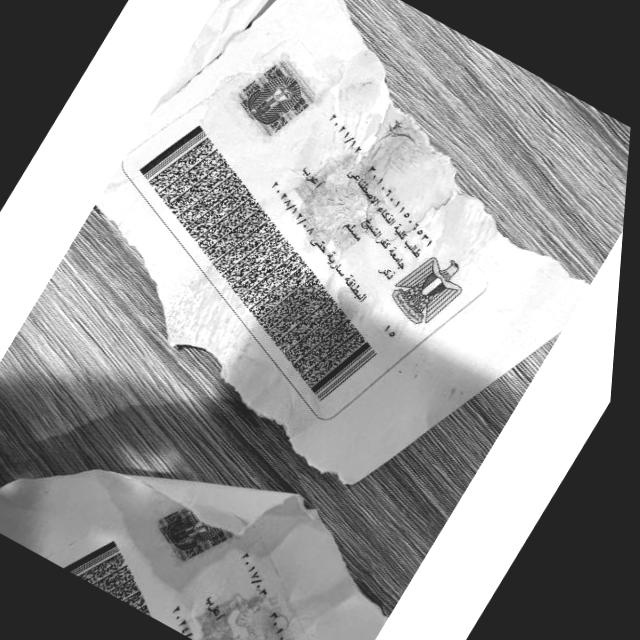back: (97, 0, 587, 482)
